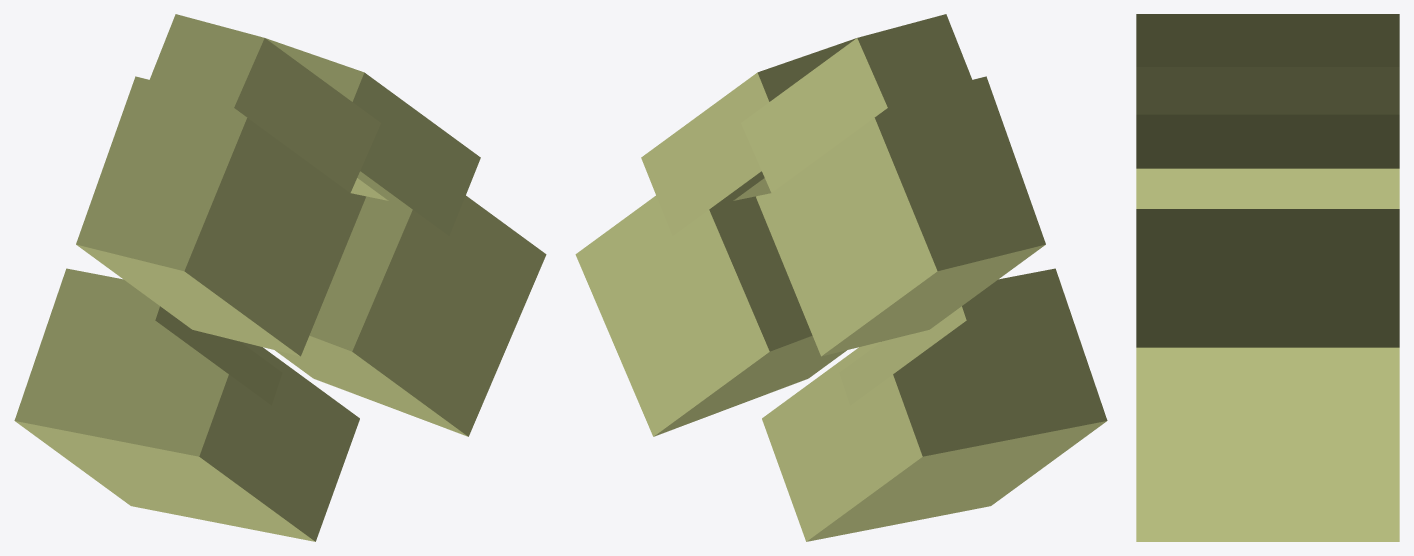
3 views of the same model, side by side, from view 1: azimuth 30°, elevation 25°; view 2: azimuth 150°, elevation 25°; view 3: azimuth 270°, elevation 25° (orthographic). The views are drawn at different scales.
Parts seen in each view (by area): view 1: 0_1_1_3_3_1_0_3_3_1; view 2: 0_1_1_3_3_1_0_3_3_1; view 3: 0_1_1_3_3_1_0_3_3_1.
Part boxes in pixels (x1,y1,x2,y2): 0_1_1_3_3_1_0_3_3_1: (14,14,546,541); 0_1_1_3_3_1_0_3_3_1: (575,14,1107,541); 0_1_1_3_3_1_0_3_3_1: (1136,14,1399,541).
Size of the model in its own units: 18.54 by 19.12 by 9.
